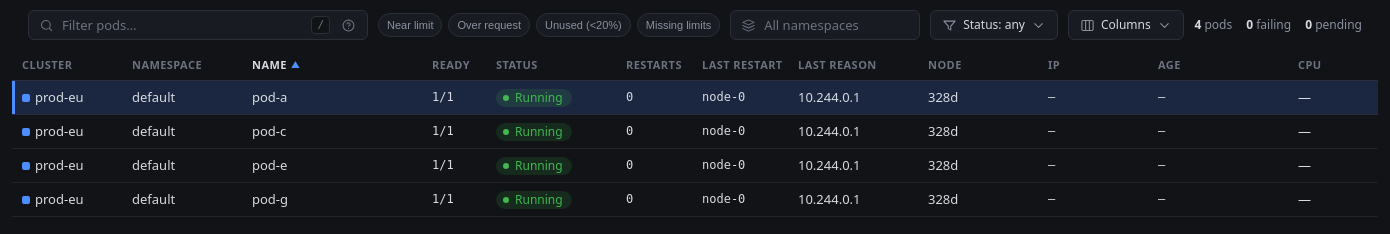
Scenario: PodTable selection anchored by row uid › R-14d: a filter/sort/kind change (new query) drops the anchor
The width and height of the screenshot is (1390, 234).
Expected: the text "pod-g" is shown, 252,190 -> 288,208
Click the text "pod-e" at (695, 166), box 12,149 -> 1378,183
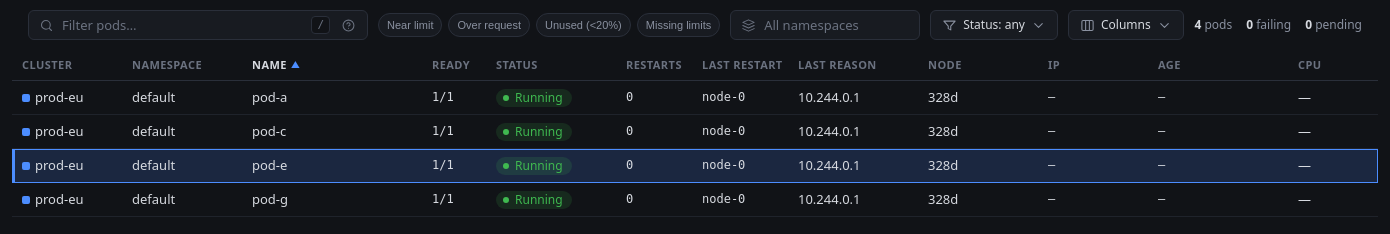
Expected: the row with test id "pod-row" shows "pod-e", 252,156 -> 287,174
Click the search field labelled "Filter pods" at (183, 25), box 62,11 -> 303,39
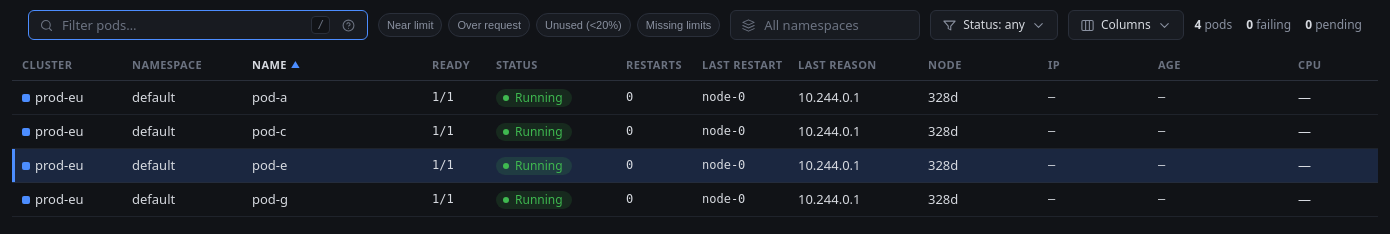
Type keys "pod"
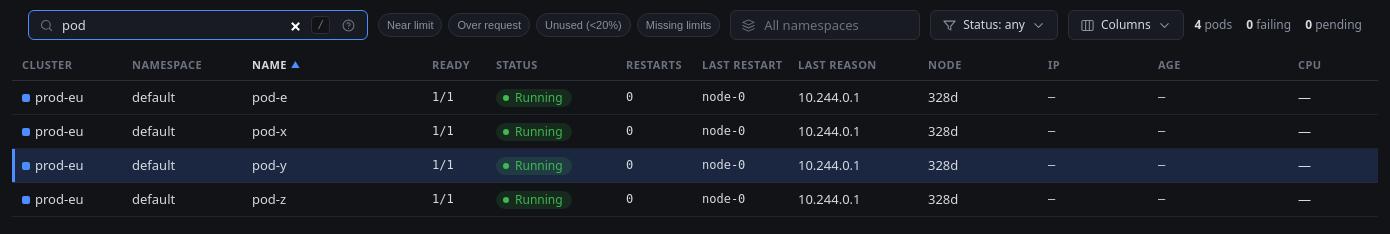
Expected: the text "pod-x" is shown, 252,122 -> 287,140
Expected: the row with test id "pod-row" shows "pod-y", 252,156 -> 287,174
